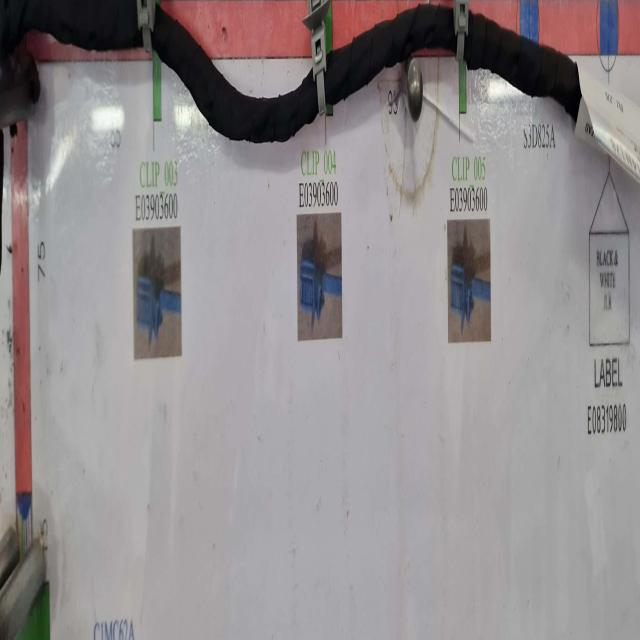Clip: (304, 2, 332, 115), (137, 0, 155, 54), (454, 0, 469, 64)
Info: (575, 59, 640, 183)
MHEV_N11_Cable: (152, 5, 319, 145), (466, 11, 581, 124), (329, 5, 456, 102), (0, 0, 140, 64)
